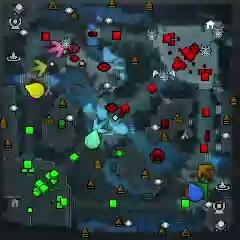p1: (188, 181, 205, 202)
p2: (83, 129, 100, 149)
p4: (25, 81, 45, 100)
x1: (48, 41, 64, 57)
x2: (29, 60, 47, 78)
x3: (92, 116, 110, 134)
x4: (195, 181, 210, 201)
x5: (195, 162, 214, 181)
